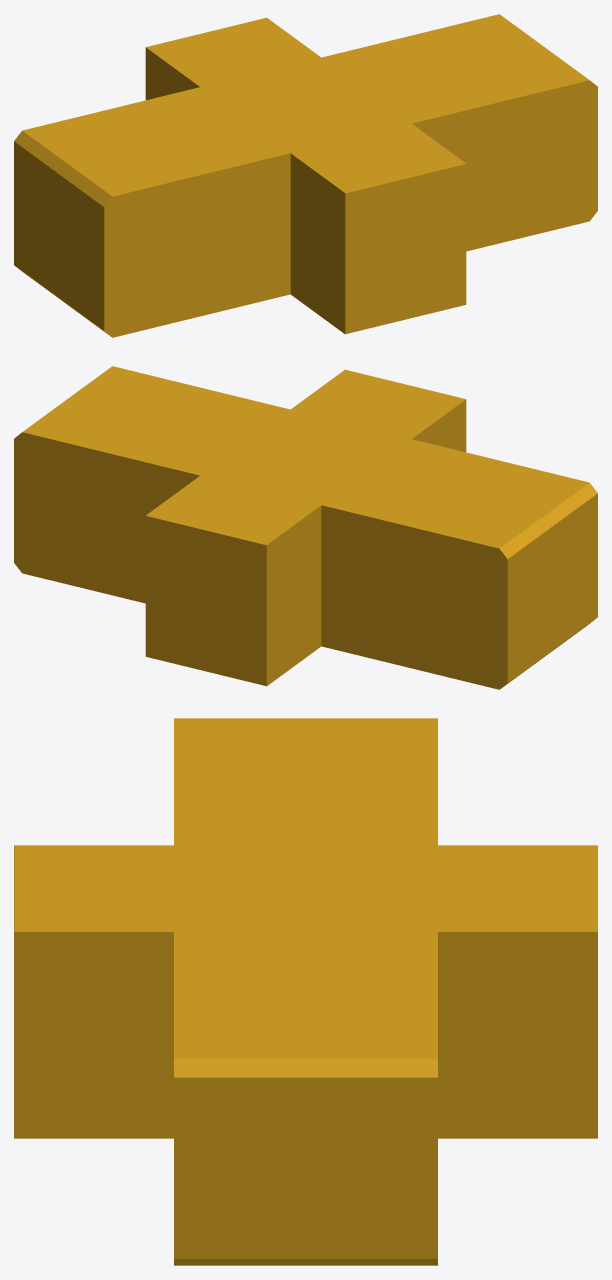
Rendered from takoz-krupp-hm-560-top-buffer-02.glb.
The picture shows the model from 3 angles, top to bottom: view 1: azimuth 30°, elevation 25°; view 2: azimuth 150°, elevation 25°; view 3: azimuth 270°, elevation 25°; orthographic projection. The views are drawn at different scales.
Visible parts, largest first — view 1: body; view 2: body; view 3: body.
Boxes of the visible parts, x1,y1,x2,y2 form: body: (14,14,597,337); body: (14,366,597,689); body: (14,718,597,1265).
Bounding box in the file's own units: 0.15 × 0.041 × 0.105.
